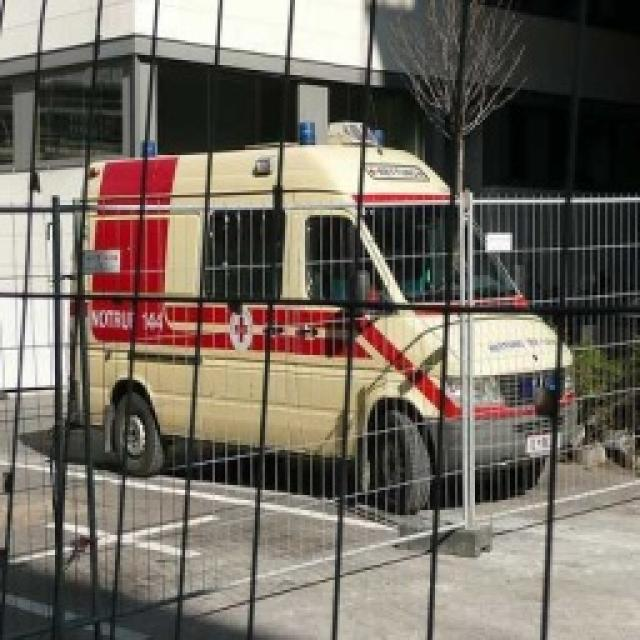emergency-vehicle: (81, 149, 576, 527)
